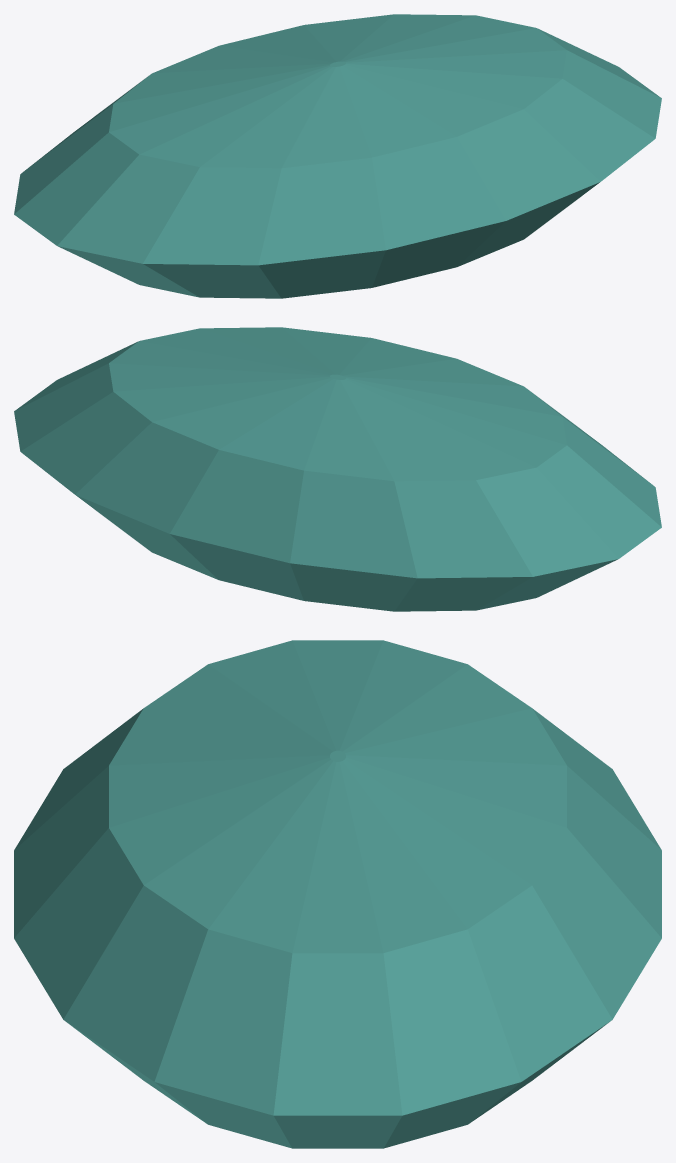
File: Nature_SailTree_Canopy.glb
3 renders of one model, top to bottom at view 1: azimuth 30°, elevation 25°; view 2: azimuth 150°, elevation 25°; view 3: azimuth 270°, elevation 25°, orthographic. The views are drawn at different scales.
Parts seen in each view (by area): view 1: Nature_SailTree_Canopy; view 2: Nature_SailTree_Canopy; view 3: Nature_SailTree_Canopy.
Boxes of the visible parts, x1,y1,x2,y2 form: Nature_SailTree_Canopy: (14,14,661,298); Nature_SailTree_Canopy: (14,327,661,611); Nature_SailTree_Canopy: (14,640,661,1148).
Size of the model in its own units: 4.12 by 1.2 by 2.55.
